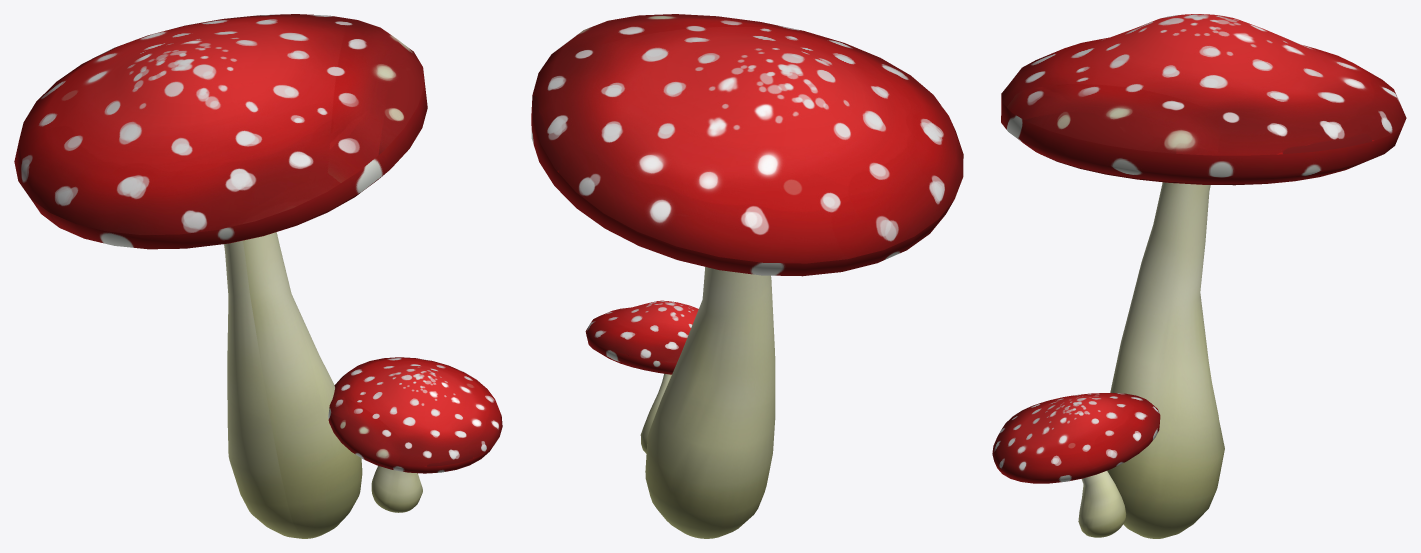
Rendered from mushroom1.glb.
3 renders of one model, left to right at view 1: azimuth 30°, elevation 25°; view 2: azimuth 150°, elevation 25°; view 3: azimuth 270°, elevation 25°, orthographic. The views are drawn at different scales.
Visible parts, largest first — view 1: Object_2.012, Object_2.007; view 2: Object_2.012, Object_2.007; view 3: Object_2.012, Object_2.007.
Boxes of the visible parts, x1,y1,x2,y2 form: Object_2.012: (14, 14, 427, 538); Object_2.007: (328, 357, 502, 512); Object_2.012: (531, 14, 963, 538); Object_2.007: (585, 300, 698, 453); Object_2.012: (1001, 14, 1406, 538); Object_2.007: (992, 392, 1160, 537).
Size of the model in its own units: 4.35 by 5.25 by 4.17.
Materials: 2 (2 with a texture image).
